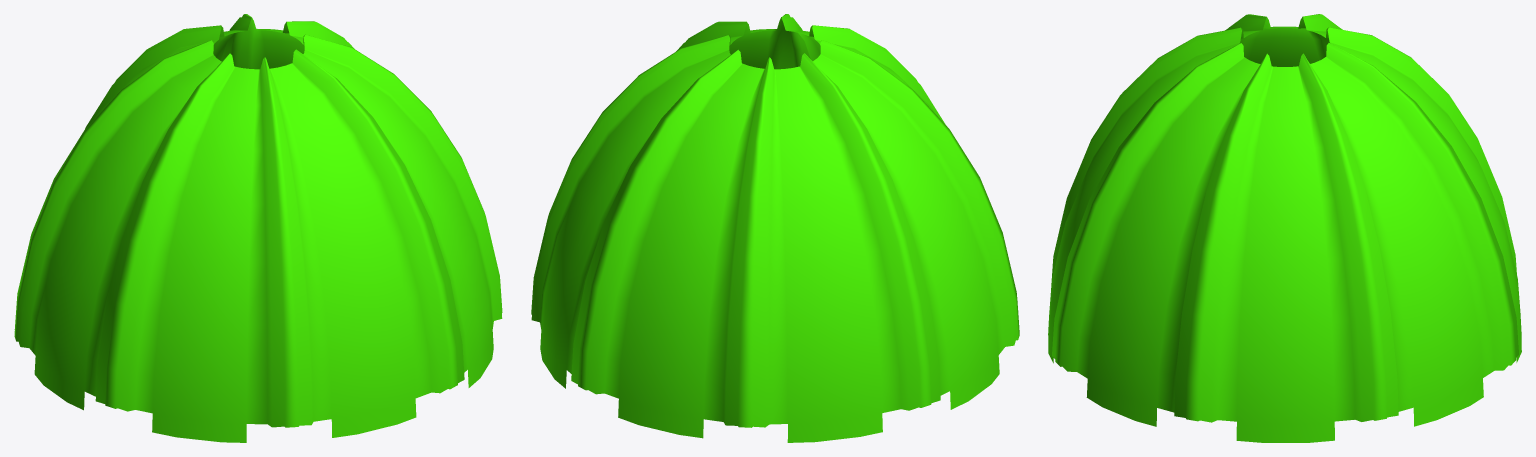
Rendered from extdome_edited2_roof.gltf.
The picture shows the model from 3 angles, left to right: view 1: azimuth 30°, elevation 25°; view 2: azimuth 150°, elevation 25°; view 3: azimuth 270°, elevation 25°; orthographic projection.
Visible parts, largest first — view 1: roof_Material #21_0; view 2: roof_Material #21_0; view 3: roof_Material #21_0.
Part boxes in pixels (x1,y1,x2,y2): roof_Material #21_0: (14,14,502,442); roof_Material #21_0: (531,14,1019,442); roof_Material #21_0: (1048,14,1521,442).
Size of the model in its own units: 114 by 81.46 by 114.
1 material, 1 textured.
